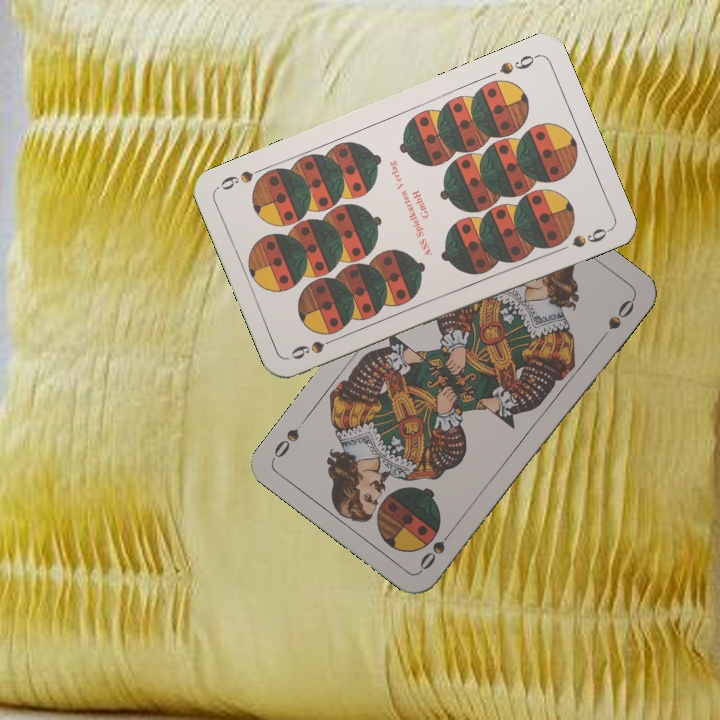S9: (286, 332, 343, 362), (495, 50, 541, 77)
SO: (415, 523, 458, 573)
